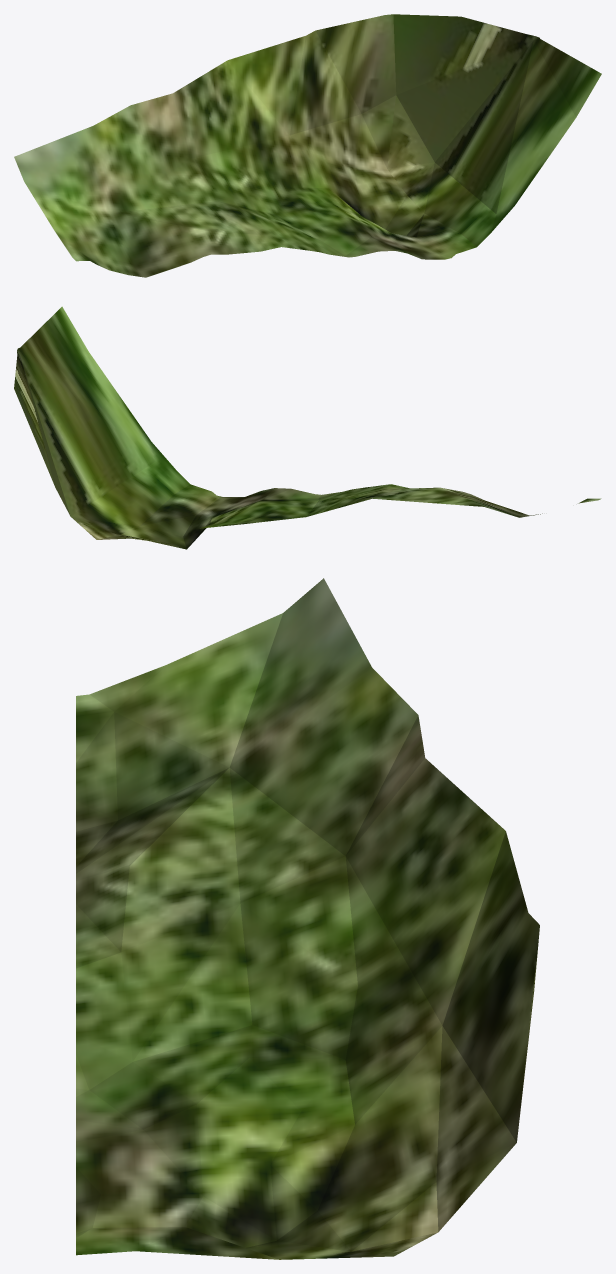
3 renders of one model, top to bottom at view 1: azimuth 30°, elevation 25°; view 2: azimuth 150°, elevation 25°; view 3: azimuth 270°, elevation 25°, orthographic. The views are drawn at different scales.
Bounding box in the file's own units: 1.36 × 0.3914 × 0.5198.
1 material, 1 textured.
